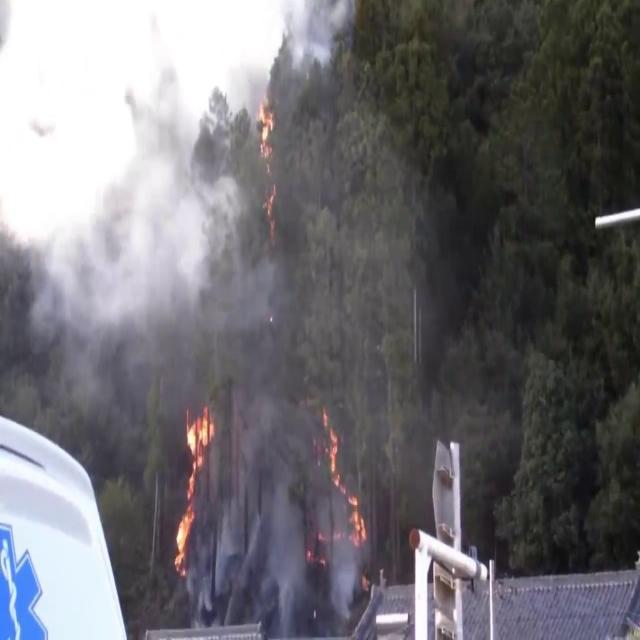Fire: (170, 400, 217, 573), (322, 397, 368, 532)
Smoke: (0, 0, 369, 355), (204, 338, 322, 624)
